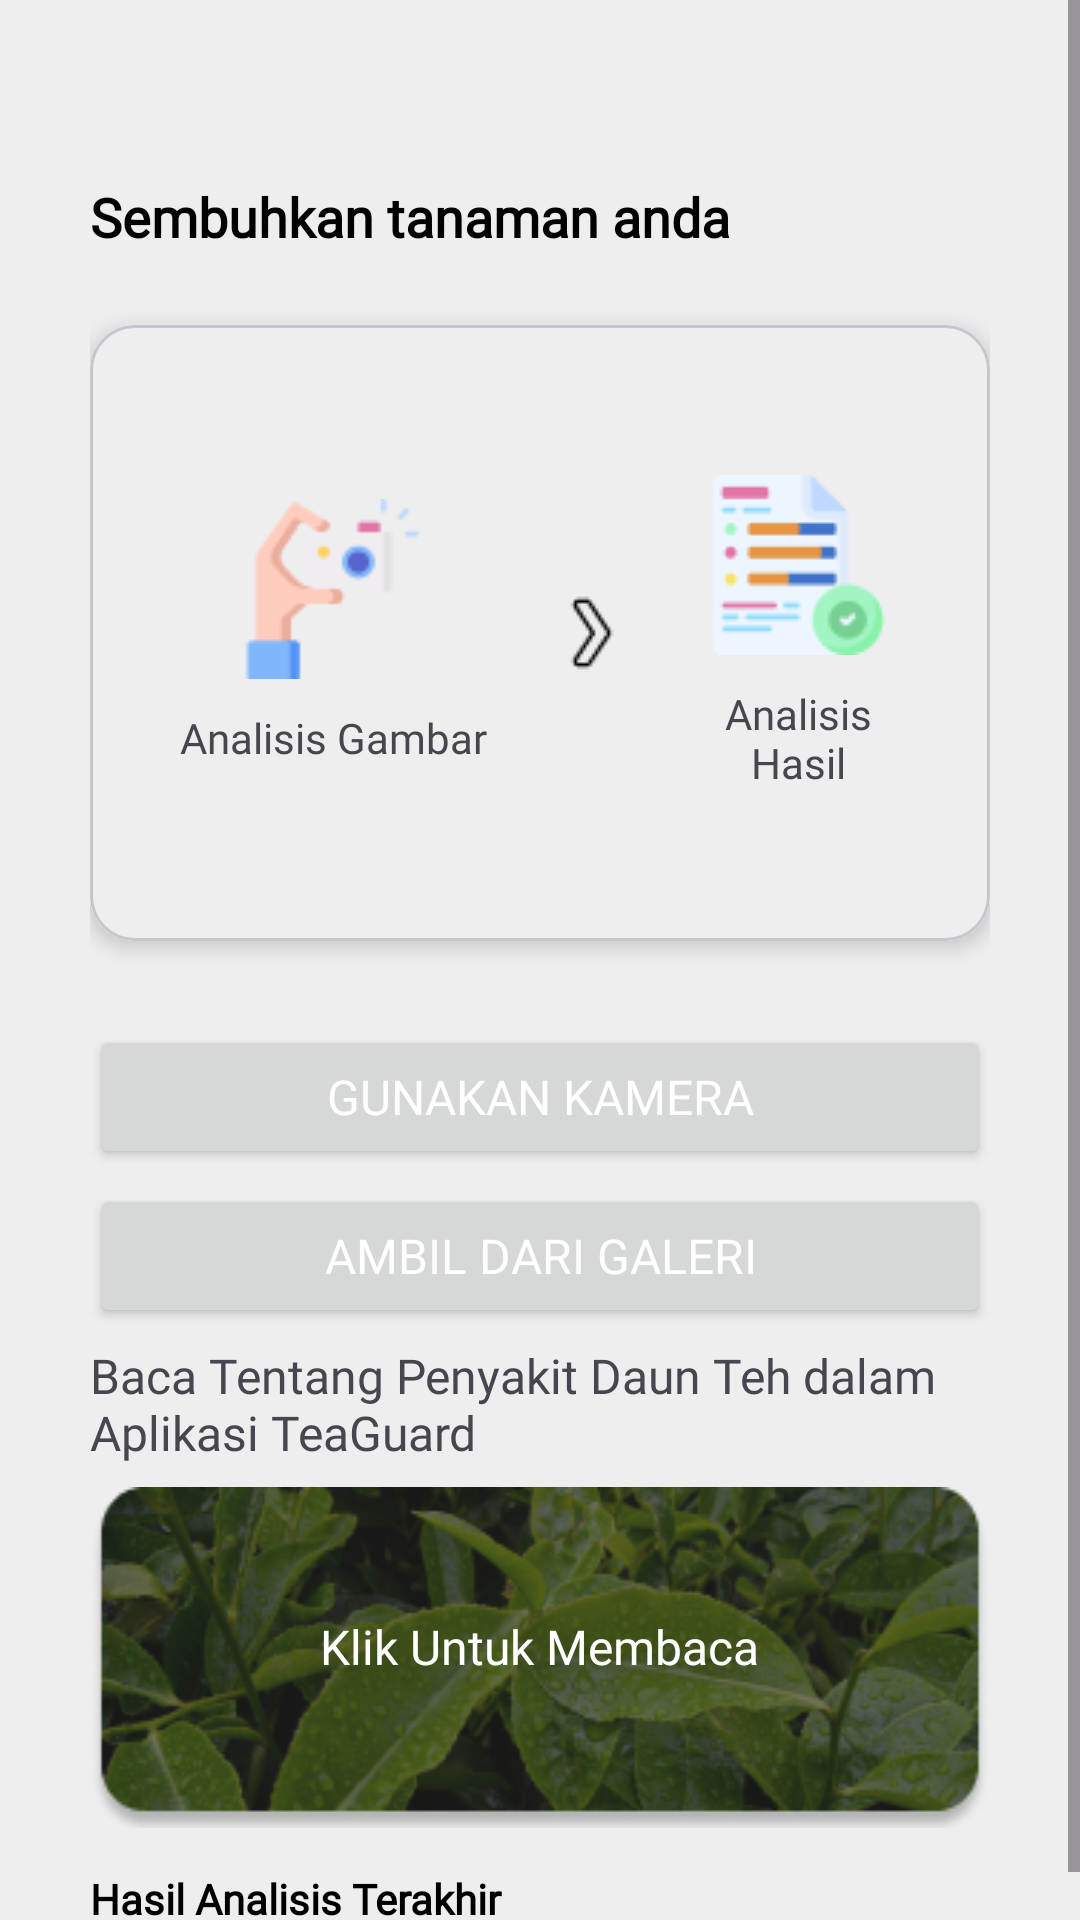

Named icons in this screenshot (1080×1920) and their bounding boxes, [left=x1, top=y1, right=x2, bottom=y2]:
arrow: [left=571, top=597, right=613, bottom=669]
result: [left=713, top=475, right=886, bottom=655]
